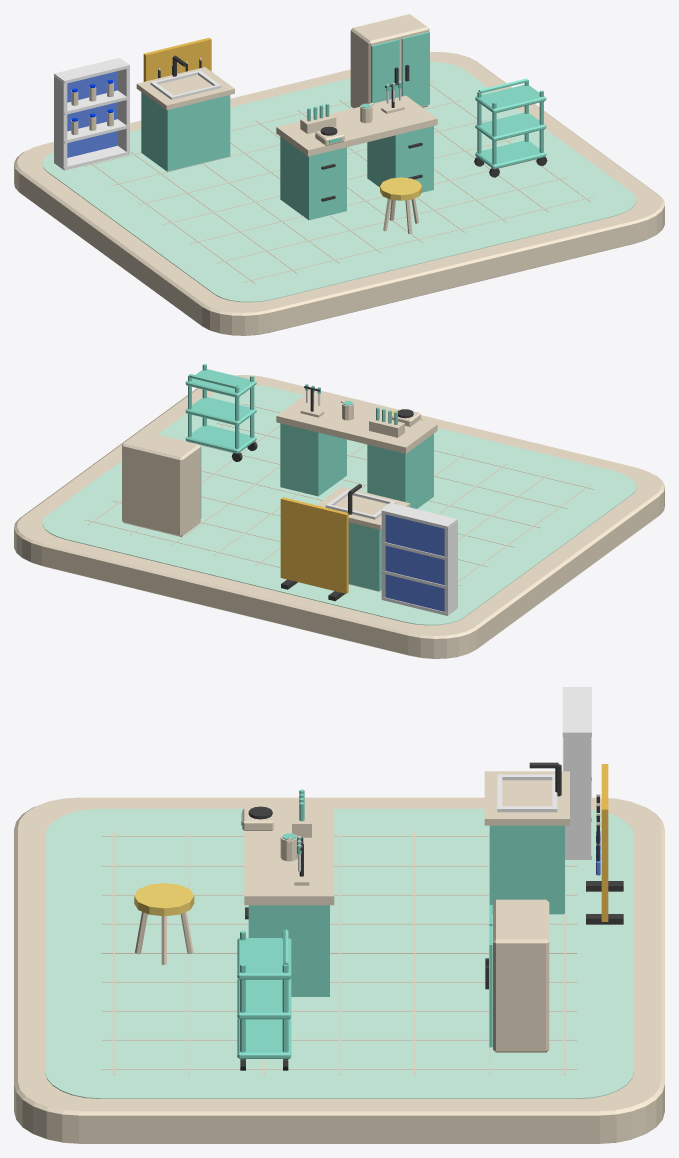
File: room.fbx
3 renders of one model, top to bottom at view 1: azimuth 30°, elevation 25°; view 2: azimuth 150°, elevation 25°; view 3: azimuth 270°, elevation 25°, orthographic. The views are drawn at different scales.
Visible parts, largest first — view 1: COM-02 Floor Surface, COM-01 Rounded Base Direct, Cabinet, Storage module, Worktop, Storage module.001, Equipment case, Cabinet back, Counter, Door.001, Panel, Door (+12 smaller); view 2: COM-02 Floor Surface, COM-01 Rounded Base Direct, Equipment case, Panel, Cabinet back, Worktop, Storage module.001, Storage module, Cabinet, Counter, Clean supply cabinet side, Tray.001 (+4 smaller); view 3: COM-02 Floor Surface, COM-01 Rounded Base Direct, Equipment case, Worktop, Cabinet, Storage module.001, Counter, Clean supply cabinet side.001, Tray.002, Tray.001, Tray, Seat (+5 smaller).
Boxes of the visible parts, <box> form: COM-02 Floor Surface: <box>42,62,636,302</box>; COM-01 Rounded Base Direct: <box>14,52,664,335</box>; Cabinet: <box>141,92,230,171</box>; Storage module: <box>280,136,346,220</box>; Worktop: <box>276,95,437,156</box>; Storage module.001: <box>367,126,433,192</box>; Equipment case: <box>350,14,429,108</box>; Cabinet back: <box>67,71,117,157</box>; Counter: <box>136,67,234,110</box>; Door.001: <box>401,32,429,106</box>; Panel: <box>143,37,211,81</box>; Door: <box>371,39,399,103</box>; COM-02 Floor Surface: <box>42,385,636,625</box>; COM-01 Rounded Base Direct: <box>14,375,664,658</box>; Equipment case: <box>122,430,200,536</box>; Panel: <box>280,497,348,593</box>; Cabinet back: <box>385,514,444,611</box>; Worktop: <box>276,393,437,453</box>; Storage module.001: <box>280,423,346,496</box>; Storage module: <box>367,434,433,508</box>; Cabinet: <box>348,522,381,591</box>; Counter: <box>316,486,410,529</box>; Clean supply cabinet side: <box>444,520,457,614</box>; Tray.001: <box>185,397,256,425</box>; COM-02 Floor Surface: <box>45,808,633,1098</box>; COM-01 Rounded Base Direct: <box>14,797,664,1143</box>; Equipment case: <box>493,899,549,1052</box>; Worktop: <box>244,806,334,905</box>; Cabinet: <box>489,825,564,914</box>; Storage module.001: <box>248,905,329,996</box>; Counter: <box>484,771,569,825</box>; Clean supply cabinet side.001: <box>563,735,591,859</box>; Tray.002: <box>237,938,291,979</box>; Tray.001: <box>237,978,291,1019</box>; Tray: <box>237,1018,291,1058</box>; Seat: <box>134,883,194,916</box>.
Size of the model in its own units: 600 by 154 by 520.
